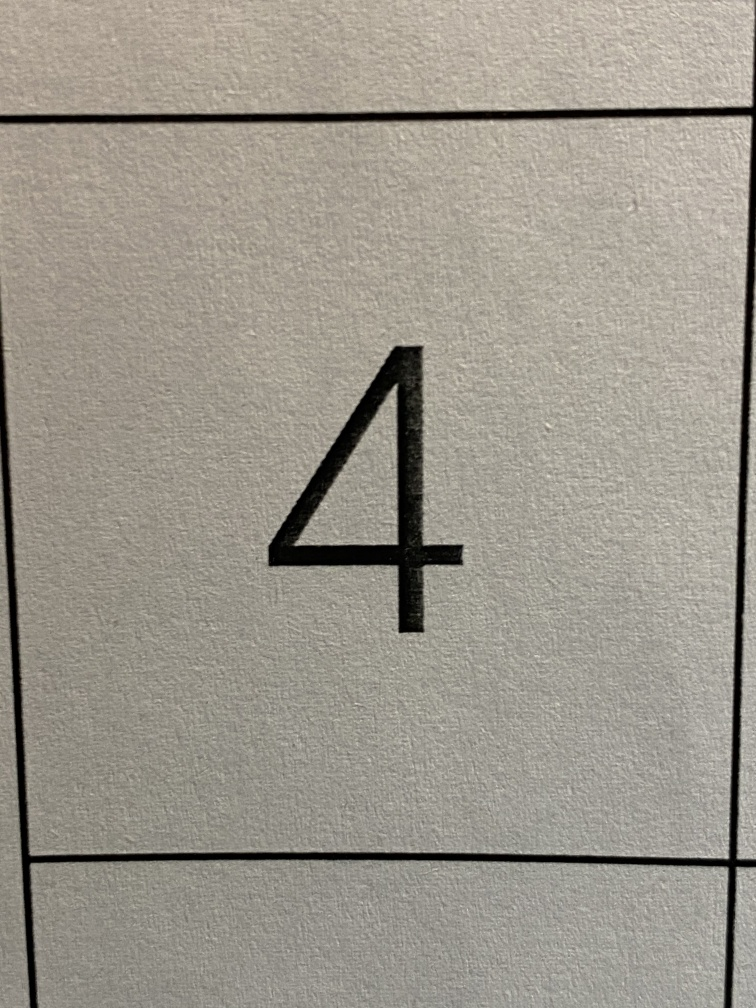four: (228, 304, 536, 686)
